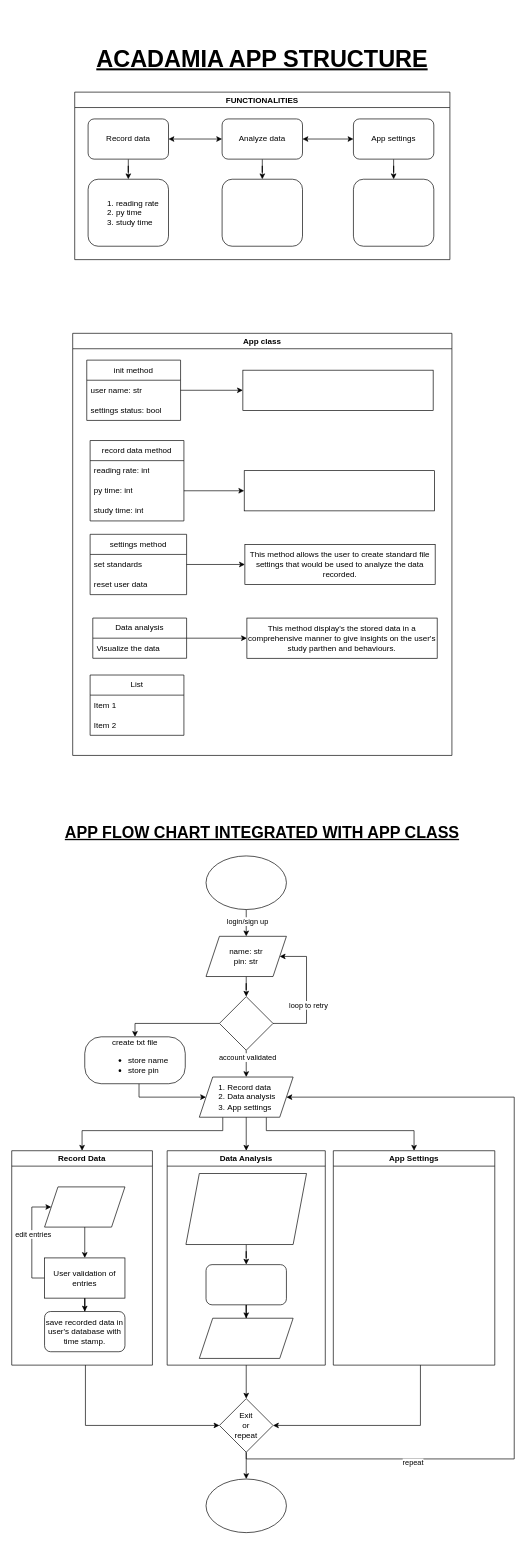
The diagram is 531 pixels wide and 1544 high, and some of its shapes have lost their labels. The shapes that lost their labels are listed below. From the top down, each one's centre as x and y in pixels, then its label:
At [262,212]: "Graphical display".
At [393,212]: "reset App Set standards".
At [337,390]: "The class would be initialized with the user's name, password and settings.".
At [339,490]: "This method allows the user to make data entries into the app's database".
At [245,882]: "START APP".
At [246,1023]: "validation".
At [84,1206]: "reading rate: str py time: int study time: int".
At [246,1209]: "Select analysis options Last 7 days last 30 days last 365 days All data recorded".
At [245,1284]: "load data volume and create a pandas dataFrame".
At [246,1338]: "Data visualization".
At [245,1505]: "Close opened files and exit App".
